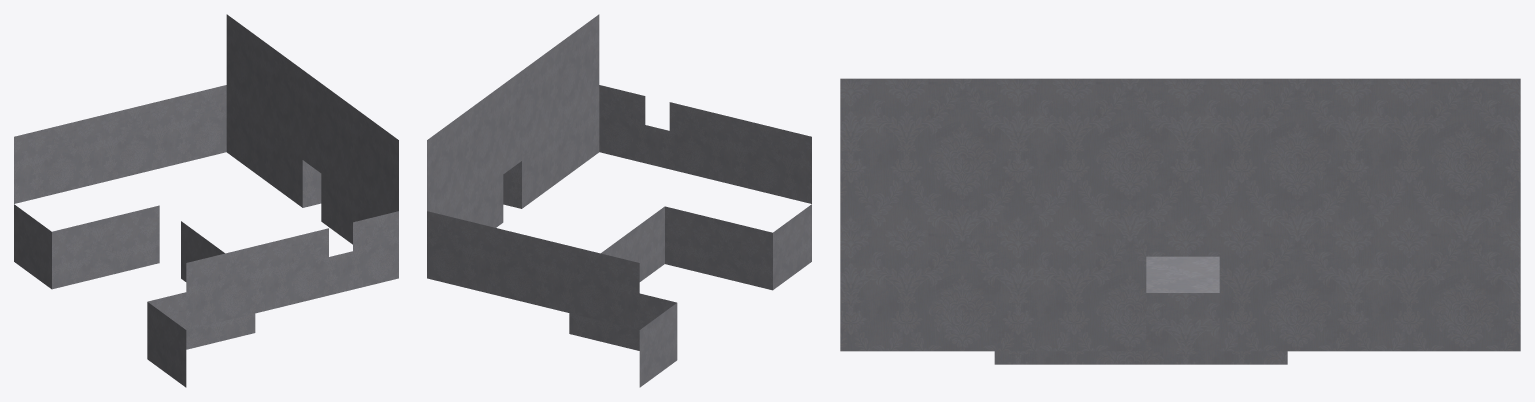
The model's file is TopFloor.fbx.
The picture shows the model from 3 angles, left to right: view 1: azimuth 30°, elevation 25°; view 2: azimuth 150°, elevation 25°; view 3: azimuth 270°, elevation 25°; orthographic projection. The views are drawn at different scales.
Parts seen in each view (by area): view 1: TopFloor; view 2: TopFloor; view 3: TopFloor.
Part boxes in pixels (left/top/right/bottom): TopFloor: left=14, top=14, right=398, bottom=387; TopFloor: left=427, top=14, right=811, bottom=387; TopFloor: left=840, top=78, right=1520, bottom=364.
Bounding box in the file's own units: 5450 × 4075 × 6500.
